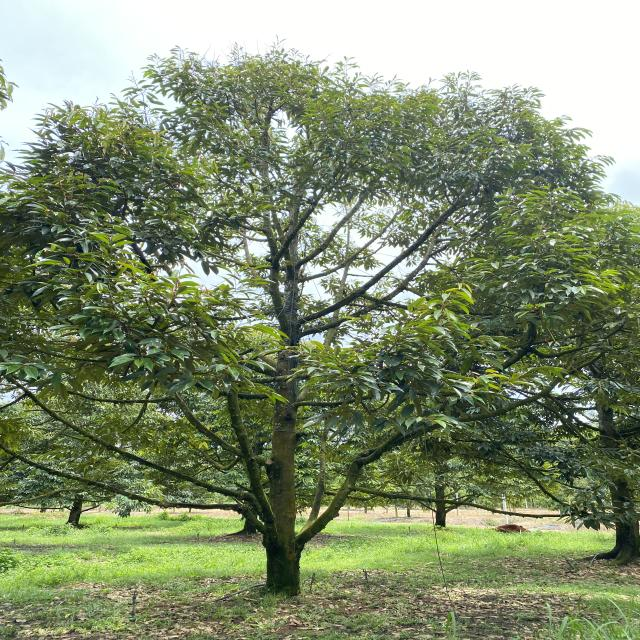Tree: (2, 55, 640, 559)
